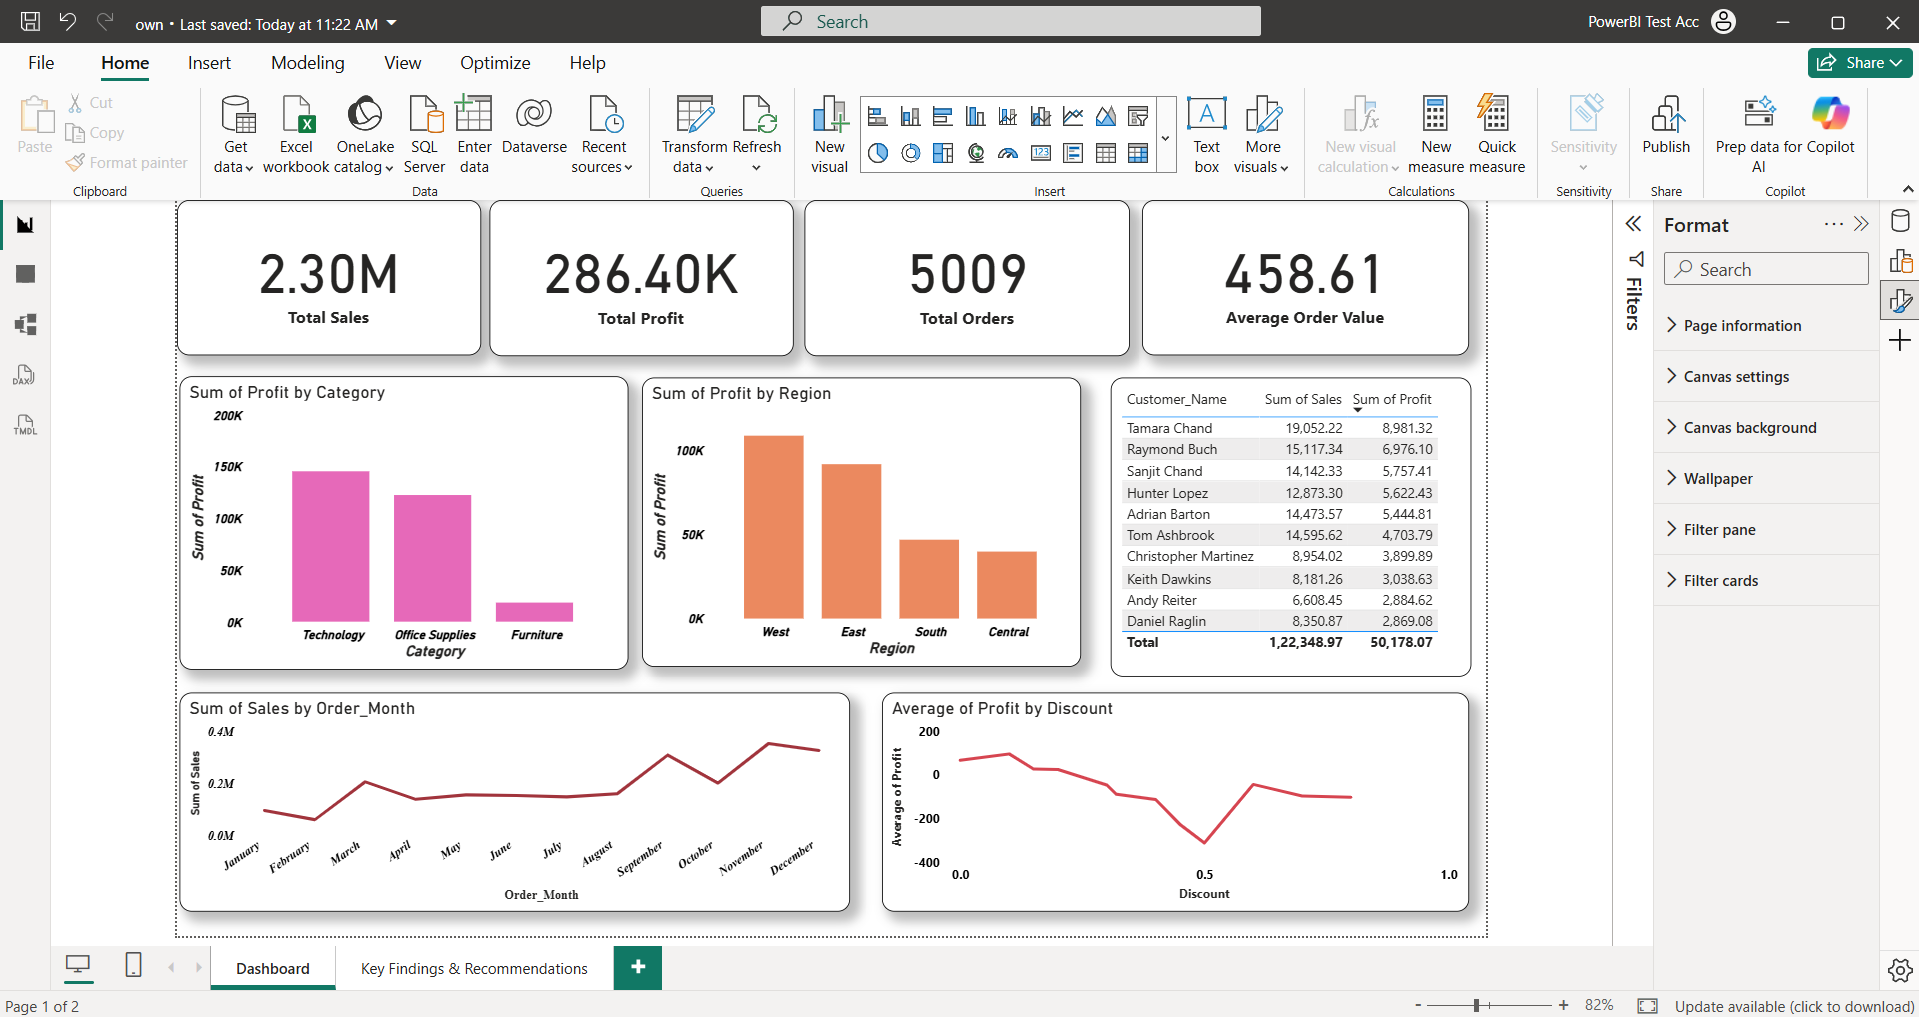

The page's visual inventory and layout, read from the dashboard file:
{"tool":"powerbi","page":{"name":"Dashboard","canvas":[1280,720],"ordinal":0},"visuals":[{"type":"card","fields":{"Values":["Sum(Superstore_Cleaned.Sales)"]},"box":[0,0,297.2,152.2],"z":0},{"type":"card","fields":{"Values":["Sum(Superstore_Cleaned.Profit)"]},"box":[306.1,0,297.2,153.1],"z":1000},{"type":"card","fields":{"Values":["Count(Superstore_Cleaned.Order_ID)"]},"box":[614,0,318.6,153.1],"z":2000},{"type":"card","fields":{"Values":["Superstore_Cleaned.Average order value"]},"box":[944.4,0,320,152.2],"z":3000},{"type":"clusteredColumnChart","fields":{"Category":["Superstore_Cleaned.Category"],"Y":["Sum(Superstore_Cleaned.Profit)"]},"box":[2.8,172.1,439.5,287.3],"z":4000},{"type":"clusteredColumnChart","fields":{"Category":["Superstore_Cleaned.Region"],"Y":["Sum(Superstore_Cleaned.Profit)"]},"box":[455.1,173.5,429.5,283],"z":5000},{"type":"lineChart","fields":{"Category":["Superstore_Cleaned.Discount"],"Y":["Avg(Superstore_Cleaned.Profit)"]},"box":[689.8,482.1,574.6,214.8],"z":6000},{"type":"lineChart","fields":{"Category":["Superstore_Cleaned.Order_Month"],"Y":["Sum(Superstore_Cleaned.Sales)"]},"box":[2.8,482.1,655.6,214.8],"z":7000},{"type":"tableEx","fields":{"Values":["Superstore_Cleaned.Customer_Name","Sum(Superstore_Cleaned.Sales)","Sum(Superstore_Cleaned.Profit)"]},"box":[913.1,173.5,352.7,293],"z":8000}]}

Visuals, with their boxes on the page's 1280x720 design canvas (x1, y1, x2, y2). These are canvas units, not pixel positions in the 1919x1017 screenshot, which may show the page scaled, cropped or inside an application window:
card - Sum(Superstore_Cleaned.Sales): [x1=0, y1=0, x2=297, y2=152]
card - Sum(Superstore_Cleaned.Profit): [x1=306, y1=0, x2=603, y2=153]
card - Count(Superstore_Cleaned.Order_ID): [x1=614, y1=0, x2=933, y2=153]
card - Superstore_Cleaned.Average order value: [x1=944, y1=0, x2=1264, y2=152]
clusteredColumnChart - Superstore_Cleaned.Category x Sum(Superstore_Cleaned.Profit): [x1=3, y1=172, x2=442, y2=459]
clusteredColumnChart - Superstore_Cleaned.Region x Sum(Superstore_Cleaned.Profit): [x1=455, y1=174, x2=885, y2=456]
lineChart - Superstore_Cleaned.Discount x Avg(Superstore_Cleaned.Profit): [x1=690, y1=482, x2=1264, y2=697]
lineChart - Superstore_Cleaned.Order_Month x Sum(Superstore_Cleaned.Sales): [x1=3, y1=482, x2=658, y2=697]
tableEx - Superstore_Cleaned.Customer_Name x Sum(Superstore_Cleaned.Sales): [x1=913, y1=174, x2=1266, y2=466]
